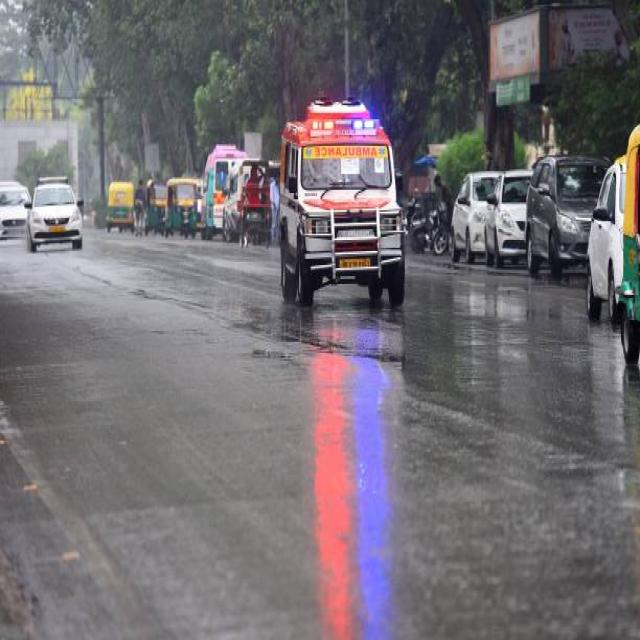ambulance: (277, 97, 416, 340), (302, 141, 391, 167), (306, 113, 382, 141)
